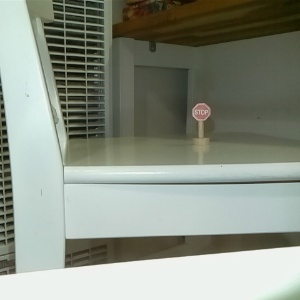stop sign: (190, 101, 212, 146)
